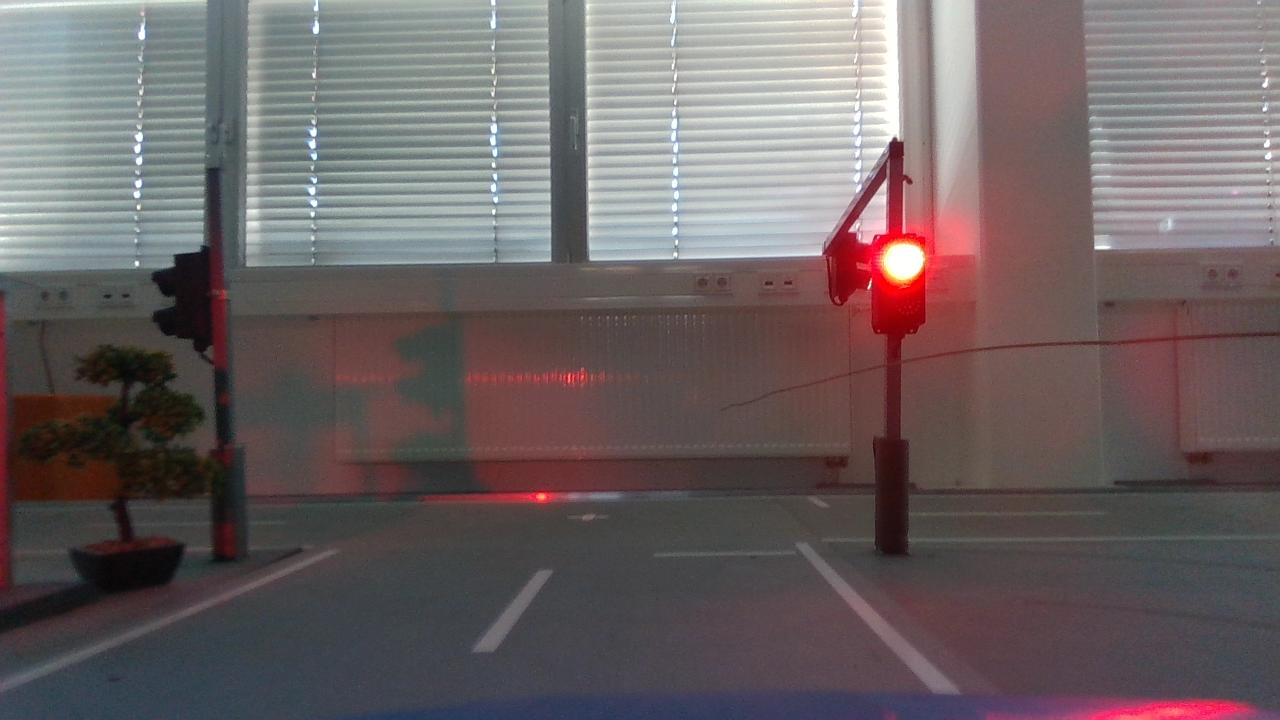traffic_light_red: (855, 221, 949, 346)
